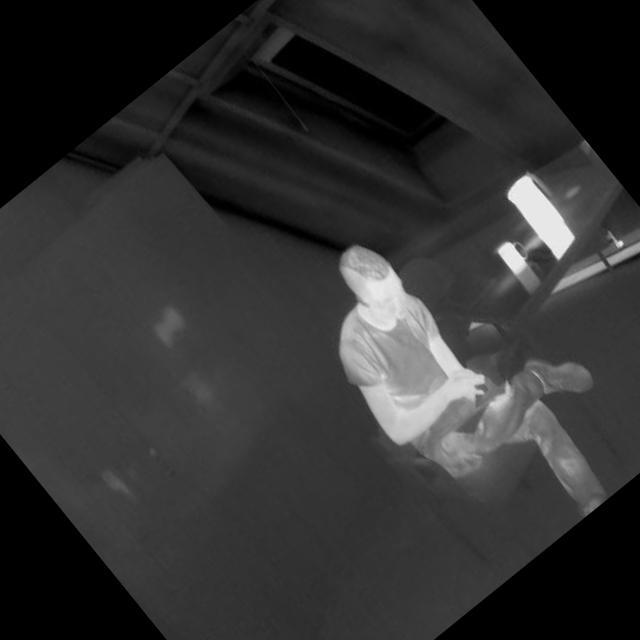person: (276, 173, 640, 582)
